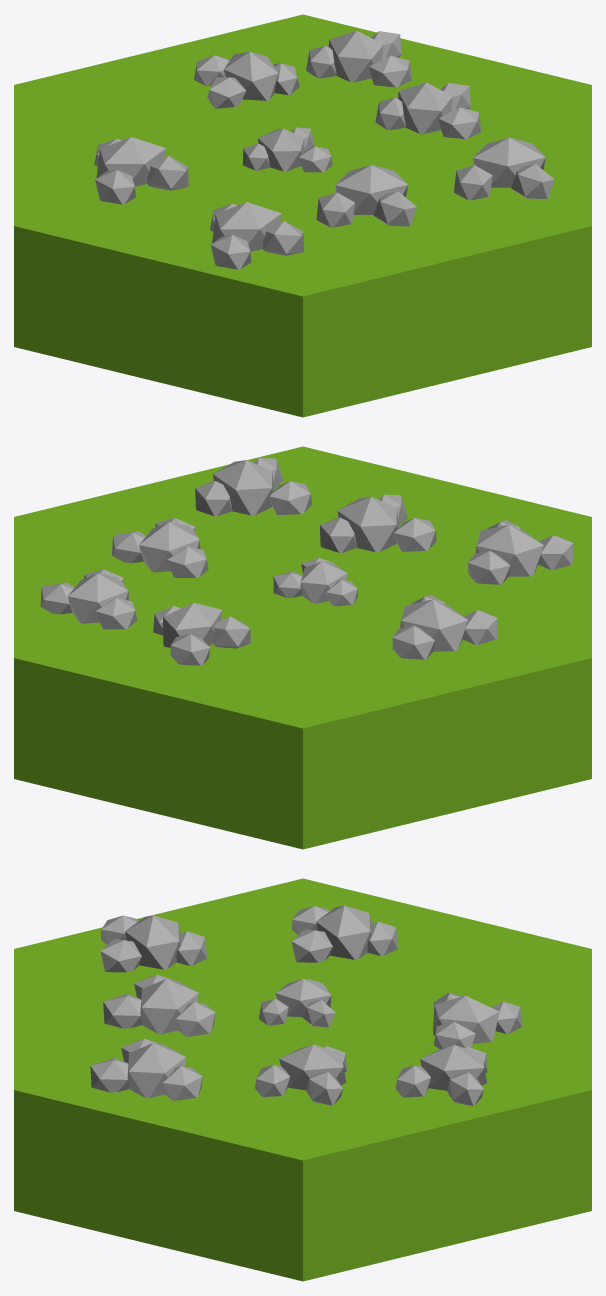
Rendered from Rocoso.fbx.
3 renders of one model, top to bottom at view 1: azimuth 30°, elevation 25°; view 2: azimuth 150°, elevation 25°; view 3: azimuth 270°, elevation 25°, orthographic.
Visible parts, largest first — view 1: Rocoso; view 2: Rocoso; view 3: Rocoso.
Boxes of the visible parts, box(x1,y1,x2,y2) form: Rocoso: box(14, 14, 591, 417); Rocoso: box(14, 446, 591, 849); Rocoso: box(14, 878, 591, 1281).
Bounding box in the file's own units: 200 × 53.44 × 173.
